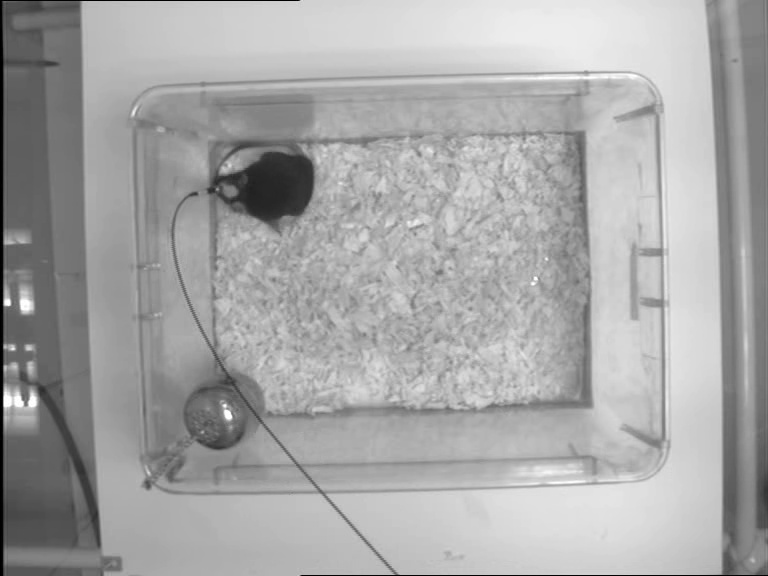mice: (210, 139, 317, 238)
